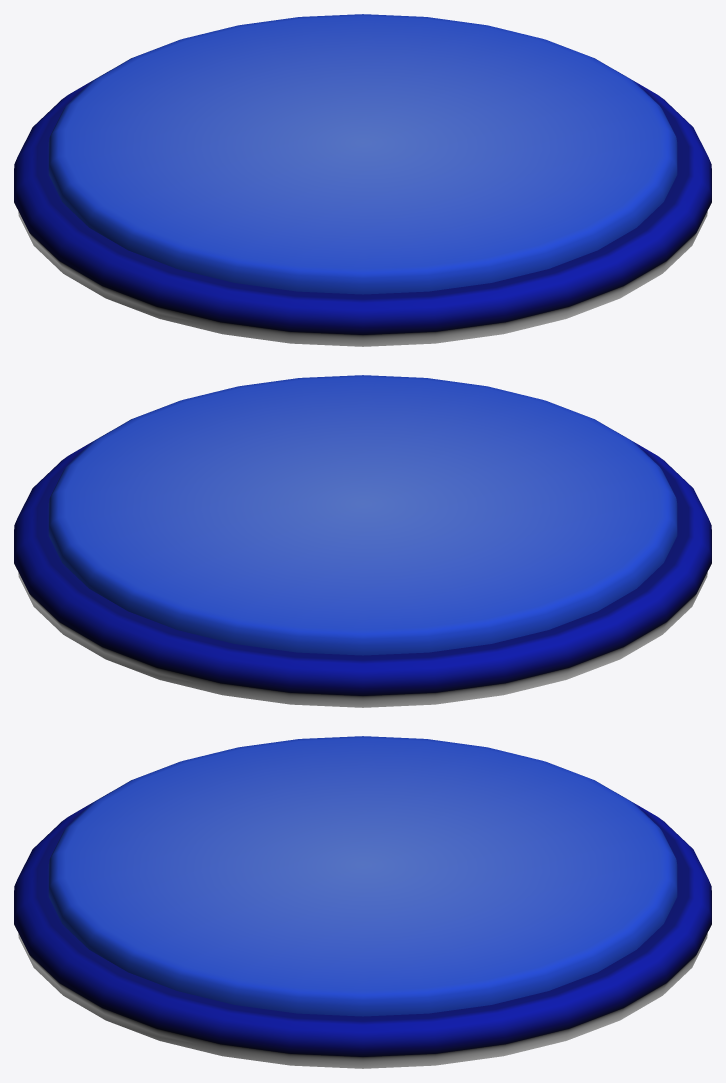
File: Platform_05.fbx
3 renders of one model, top to bottom at view 1: azimuth 30°, elevation 25°; view 2: azimuth 150°, elevation 25°; view 3: azimuth 270°, elevation 25°, orthographic.
Parts seen in each view (by area): view 1: Platform_05; view 2: Platform_05; view 3: Platform_05.
Boxes of the visible parts, bbox=[...] form: Platform_05: bbox=[14, 14, 711, 346]; Platform_05: bbox=[14, 375, 711, 707]; Platform_05: bbox=[14, 736, 711, 1068].
Bounding box in the file's own units: 1402 × 127 × 1394.
